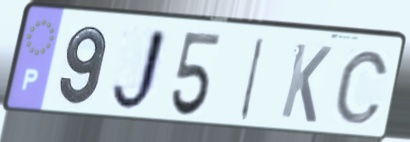5: (168, 29, 224, 119)
9: (56, 22, 110, 109)
C: (332, 48, 392, 127)
I: (236, 34, 269, 123)
J: (108, 25, 171, 116)
K: (277, 40, 335, 127)
